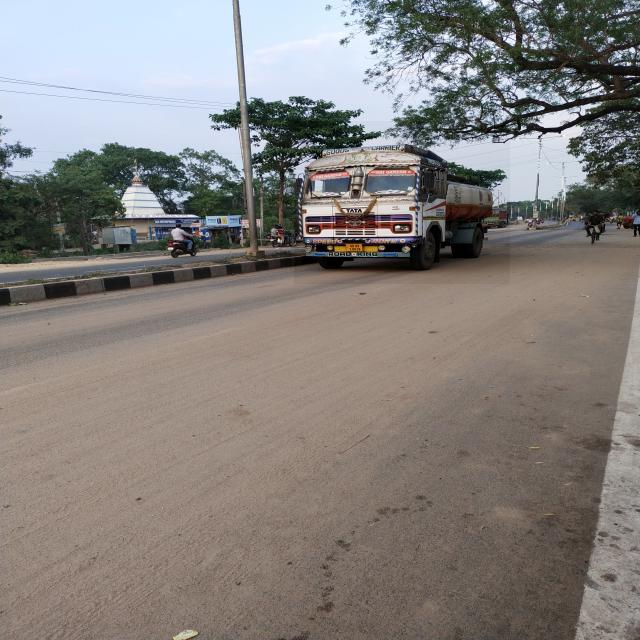Truck: (294, 121, 510, 284)
